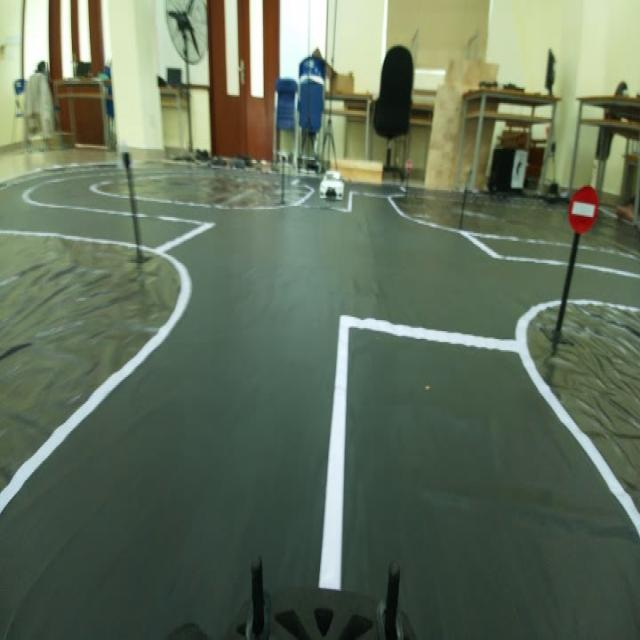no_entry: (560, 174, 606, 246)
